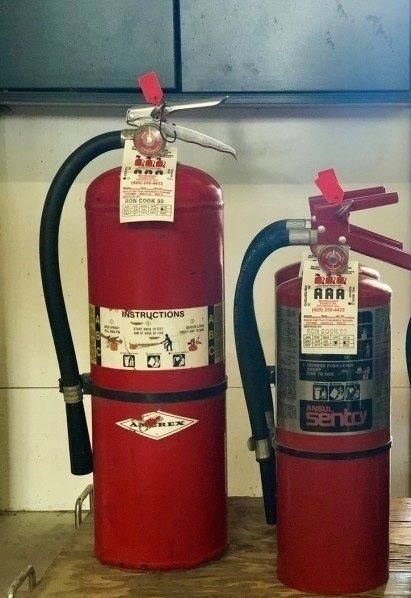fire_extinguisher: (39, 71, 238, 573), (233, 168, 410, 595)
